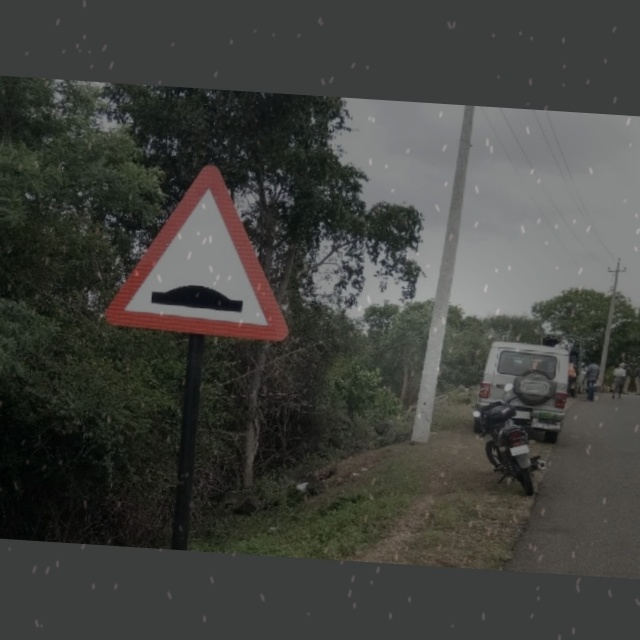Dangerous_Dip: (109, 157, 296, 344)
